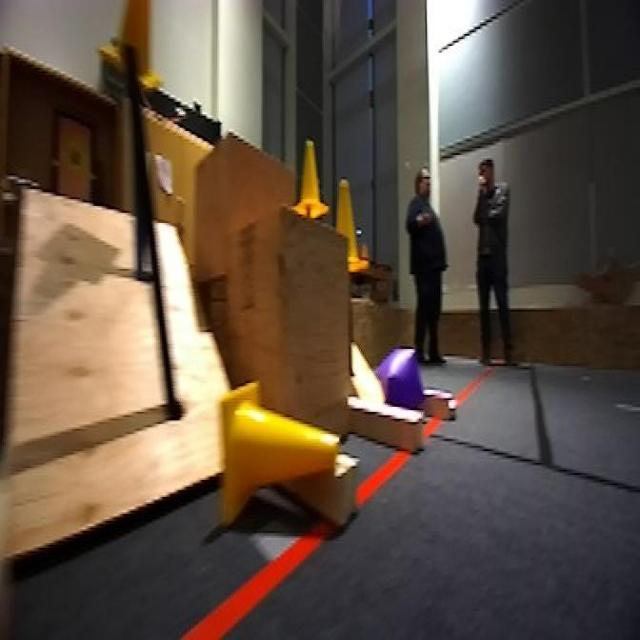frc_cone: (219, 384, 338, 516), (98, 0, 166, 99), (331, 180, 365, 278), (292, 140, 323, 221)
frc_cube: (382, 348, 425, 416)
